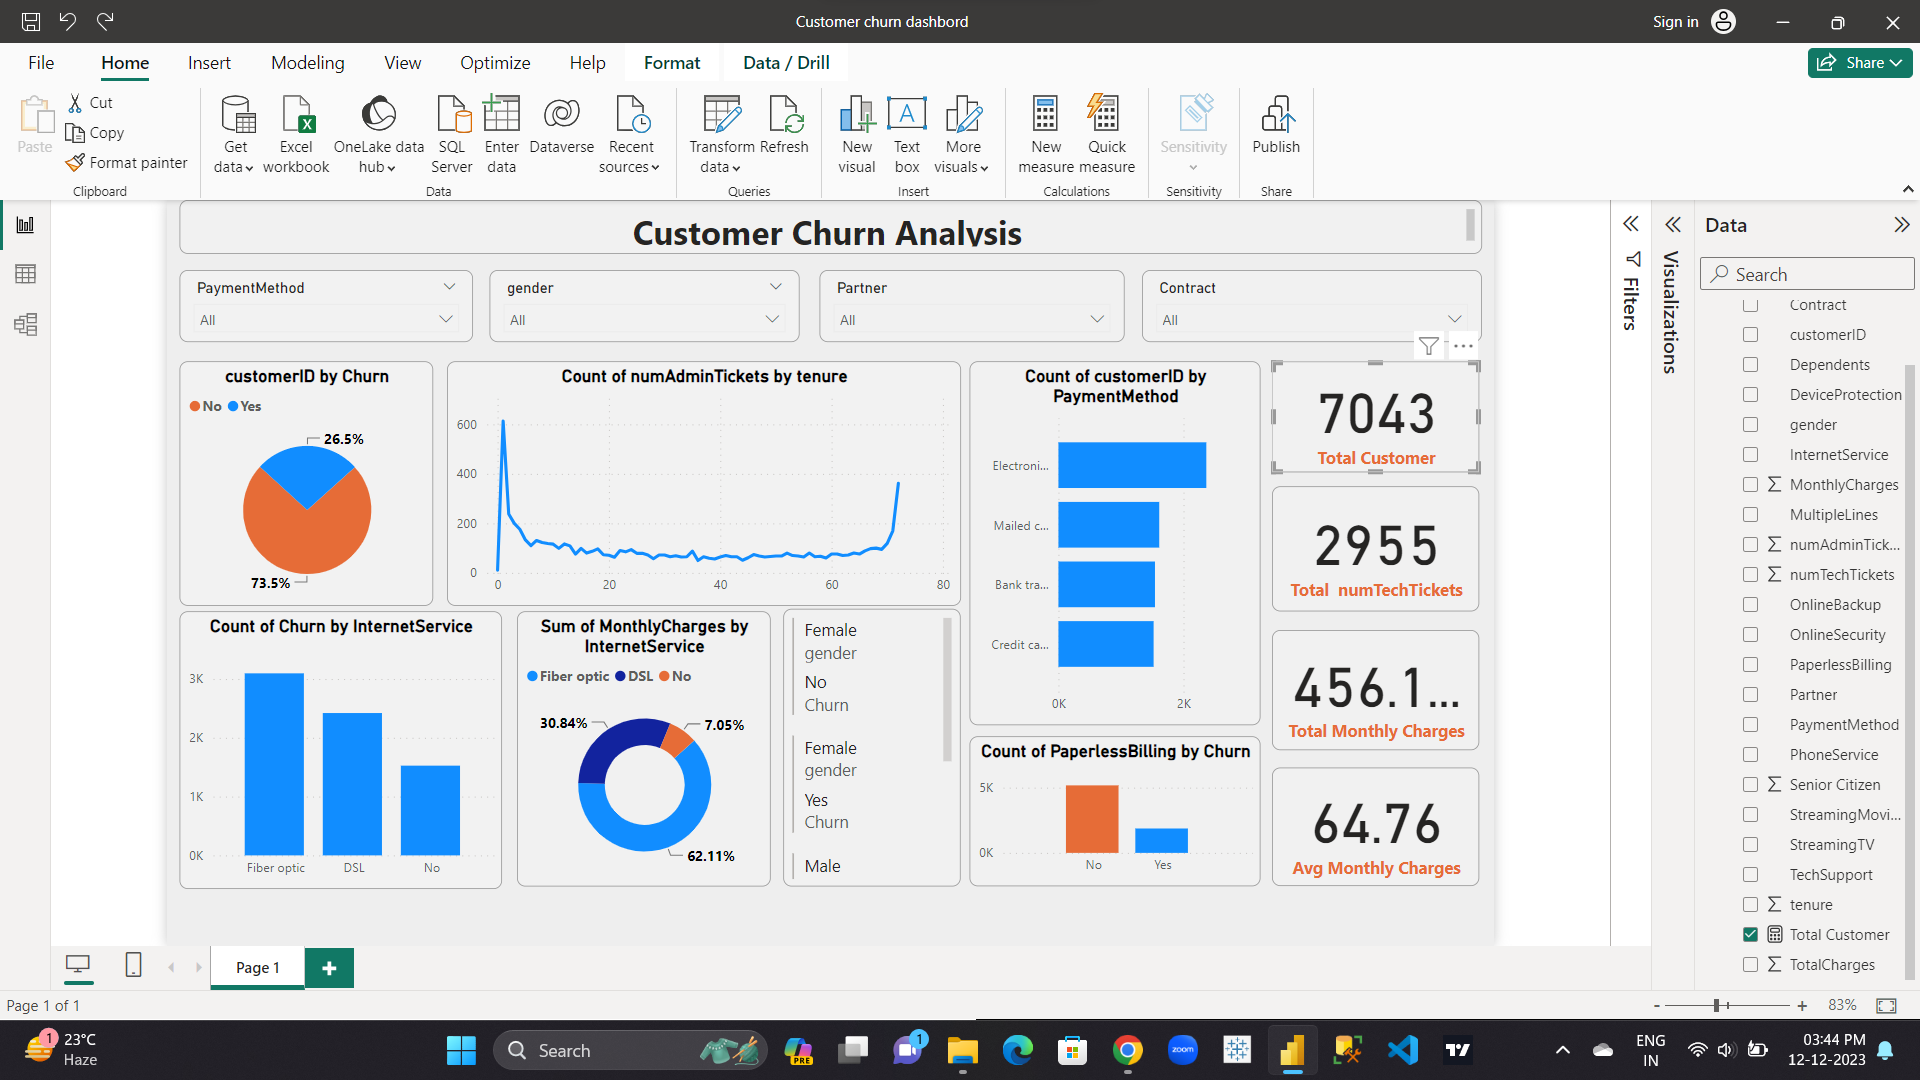

The dashboard page shown, as its layout file describes it:
{"tool":"powerbi","page":{"name":"Page 1","canvas":[1280,720],"ordinal":0},"visuals":[{"type":"textbox","box":[12.1,0,1256.7,51.9],"z":0},{"type":"pieChart","title":"customerID by Churn","fields":{"Category":["customer churn data.Churn"],"Y":["CountNonNull(customer churn data.customerID)"]},"box":[12.1,155.6,244.8,236.4],"z":1000},{"type":"lineChart","fields":{"Y":["CountNonNull(customer churn data.numAdminTickets)"],"Category":["customer churn data.tenure"]},"box":[270.2,155.6,495.7,236.4],"z":2000},{"type":"barChart","fields":{"Category":["customer churn data.PaymentMethod"],"Y":["CountNonNull(customer churn data.customerID)"]},"box":[774.3,155.6,281,351],"z":3000},{"type":"slicer","fields":{"Values":["customer churn data.PaymentMethod"]},"box":[12.1,67.5,283.4,69.9],"z":4000},{"type":"slicer","fields":{"Values":["customer churn data.Contract"]},"box":[940.7,67.5,328,69.9],"z":5000},{"type":"slicer","fields":{"Values":["customer churn data.Partner"]},"box":[629.5,67.5,294.3,69.9],"z":6000},{"type":"slicer","fields":{"Values":["customer churn data.gender"]},"box":[311.2,67.5,299.1,69.9],"z":7000},{"type":"card","fields":{"Values":["customer churn data.Total Customer"]},"box":[1066.1,155.6,200.2,107.3],"z":8000},{"type":"card","fields":{"Values":["Sum(customer churn data.MonthlyCharges)"]},"box":[1066.1,414.9,200.2,115.8],"z":9000},{"type":"card","fields":{"Values":["Avg(customer churn data.MonthlyCharges)"]},"box":[1066.1,547.5,200.2,114.6],"z":10000},{"type":"card","fields":{"Values":["Sum(customer churn data.numTechTickets)"]},"box":[1066.1,276.2,200.2,120.6],"z":11000},{"type":"columnChart","fields":{"Category":["customer churn data.InternetService"],"Y":["CountNonNull(customer churn data.Churn)"]},"box":[12.1,396.8,311.2,267.7],"z":12000},{"type":"donutChart","fields":{"Category":["customer churn data.InternetService"],"Y":["Sum(customer churn data.MonthlyCharges)"]},"box":[337.7,396.8,244.8,265.3],"z":13000},{"type":"multiRowCard","fields":{"Values":["customer churn data.gender","customer churn data.Churn"]},"box":[594.6,394.4,171.3,267.7],"z":14000},{"type":"columnChart","fields":{"Category":["customer churn data.Churn"],"Y":["CountNonNull(customer churn data.PaperlessBilling)"]},"box":[774.3,517.4,281,144.7],"z":15000}]}

Visuals, with their boxes on the page's 1280x720 design canvas (x1, y1, x2, y2). These are canvas units, not pixel positions in the 1920x1080 screenshot, which may show the page scaled, cropped or inside an application window:
textbox: x1=12, y1=0, x2=1269, y2=52
"customerID by Churn" pieChart: x1=12, y1=156, x2=257, y2=392
lineChart - CountNonNull(customer churn data.numAdminTickets) x customer churn data.tenure: x1=270, y1=156, x2=766, y2=392
barChart - customer churn data.PaymentMethod x CountNonNull(customer churn data.customerID): x1=774, y1=156, x2=1055, y2=507
slicer - customer churn data.PaymentMethod: x1=12, y1=68, x2=296, y2=137
slicer - customer churn data.Contract: x1=941, y1=68, x2=1269, y2=137
slicer - customer churn data.Partner: x1=630, y1=68, x2=924, y2=137
slicer - customer churn data.gender: x1=311, y1=68, x2=610, y2=137
card - customer churn data.Total Customer: x1=1066, y1=156, x2=1266, y2=263
card - Sum(customer churn data.MonthlyCharges): x1=1066, y1=415, x2=1266, y2=531
card - Avg(customer churn data.MonthlyCharges): x1=1066, y1=548, x2=1266, y2=662
card - Sum(customer churn data.numTechTickets): x1=1066, y1=276, x2=1266, y2=397
columnChart - customer churn data.InternetService x CountNonNull(customer churn data.Churn): x1=12, y1=397, x2=323, y2=664
donutChart - customer churn data.InternetService x Sum(customer churn data.MonthlyCharges): x1=338, y1=397, x2=582, y2=662
multiRowCard - customer churn data.gender x customer churn data.Churn: x1=595, y1=394, x2=766, y2=662
columnChart - customer churn data.Churn x CountNonNull(customer churn data.PaperlessBilling): x1=774, y1=517, x2=1055, y2=662
